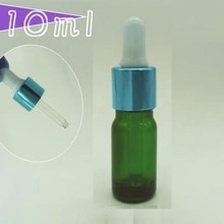bottle: (104, 61, 170, 208)
